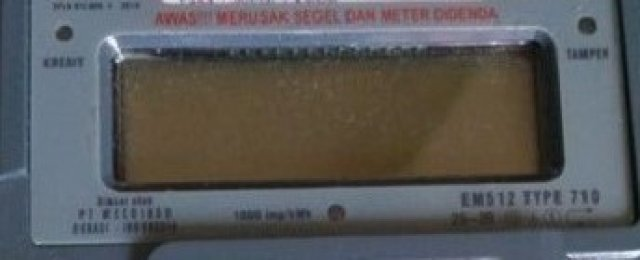box: (118, 58, 546, 181)
